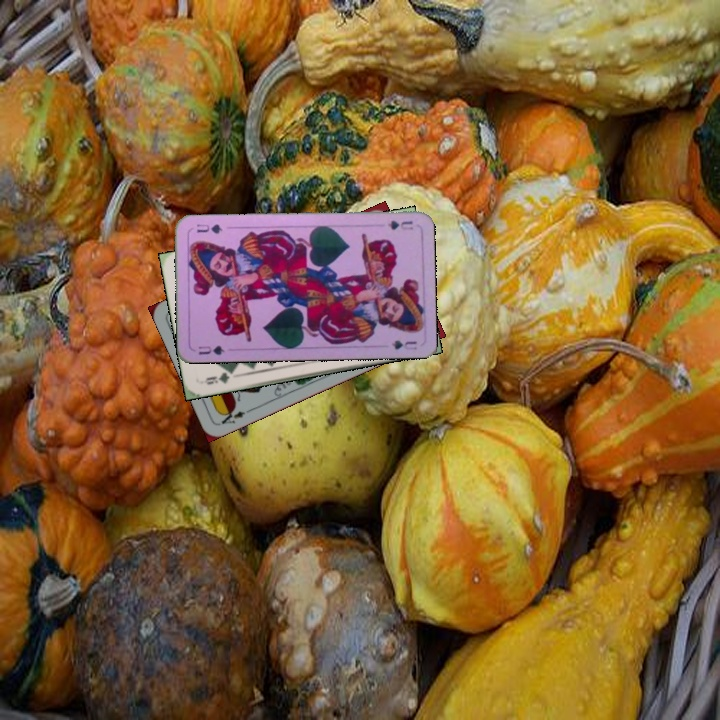EA: (216, 404, 254, 427)
G9: (200, 366, 237, 387)
GU: (195, 342, 227, 358), (384, 216, 415, 232)
